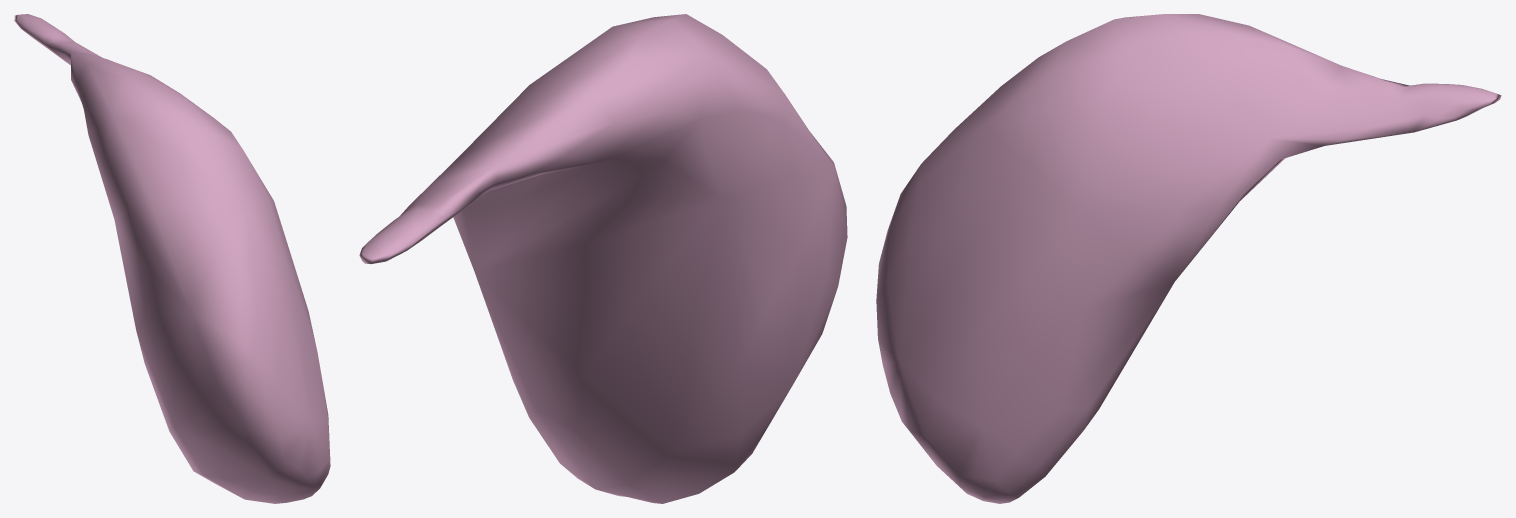
3 views of the same model, side by side, from view 1: azimuth 30°, elevation 25°; view 2: azimuth 150°, elevation 25°; view 3: azimuth 270°, elevation 25° (orthographic). The views are drawn at different scales.
Parts seen in each view (by area): view 1: 右侧附睾; view 2: 右侧附睾; view 3: 右侧附睾.
Part boxes in pixels (x1,y1,x2,y2): 右侧附睾: [14, 14, 330, 503]; 右侧附睾: [359, 14, 847, 503]; 右侧附睾: [876, 14, 1501, 503].
Bounding box in the file's own units: 0.0132 × 0.0282 × 0.0364.
